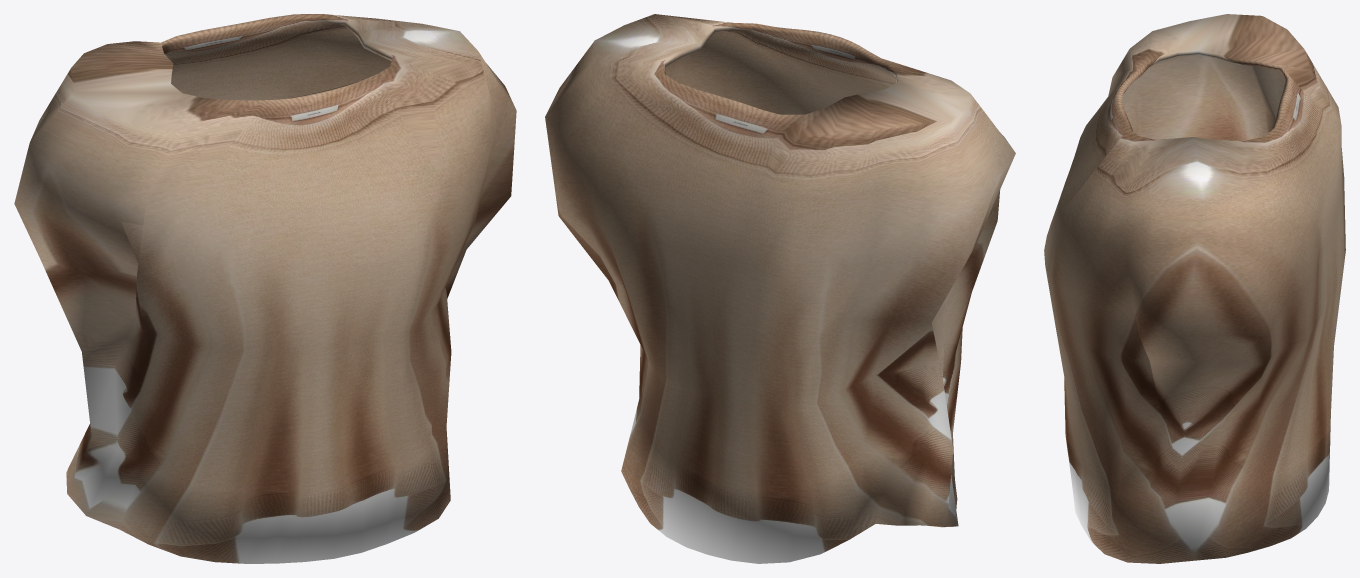
The model's file is dd5cfae1-20c5-497a-b8f3-07ed9b7e4a20.glb.
3 views of the same model, side by side, from view 1: azimuth 30°, elevation 25°; view 2: azimuth 150°, elevation 25°; view 3: azimuth 270°, elevation 25° (orthographic). The views are drawn at different scales.
Parts seen in each view (by area): view 1: garment; view 2: garment; view 3: garment.
Boxes of the visible parts, x1,y1,x2,y2 form: garment: [14, 14, 516, 563]; garment: [545, 14, 1015, 563]; garment: [1044, 14, 1345, 563].
Bounding box in the file's own units: 0.5386 × 0.5226 × 0.3442.
1 material, 1 textured.
